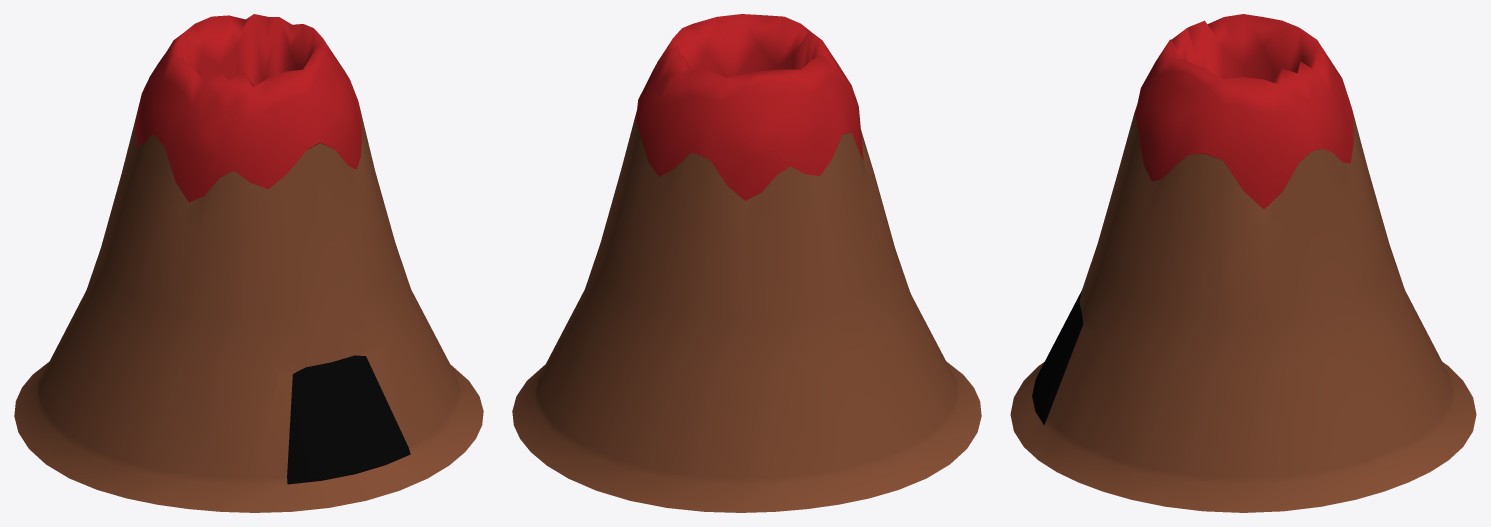
The model's file is volcano.fbx.
3 renders of one model, left to right at view 1: azimuth 30°, elevation 25°; view 2: azimuth 150°, elevation 25°; view 3: azimuth 270°, elevation 25°, orthographic.
Parts seen in each view (by area): view 1: montanha, cume, spawnPortal; view 2: montanha, cume; view 3: montanha, cume, spawnPortal.
Part boxes in pixels (x1,y1,x2,y2): montanha: (14,113,483,512); cume: (135,14,362,202); spawnPortal: (287,355,410,484); montanha: (512,119,981,512); cume: (634,14,863,200); montanha: (1010,114,1476,512); cume: (1134,14,1353,209); spawnPortal: (1032,291,1083,425).
Bounding box in the file's own units: 5903 × 5169 × 5903.
